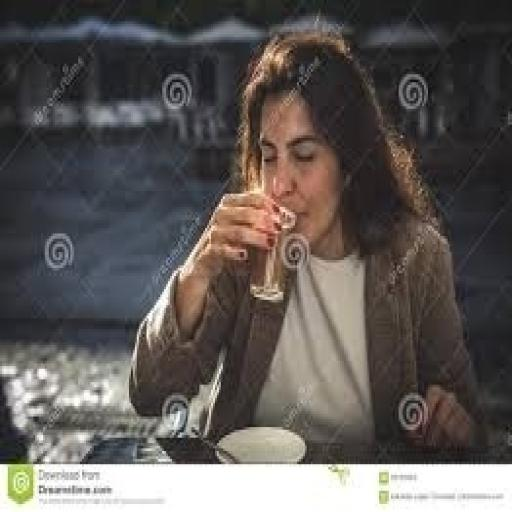drinking: (244, 186, 295, 302)
